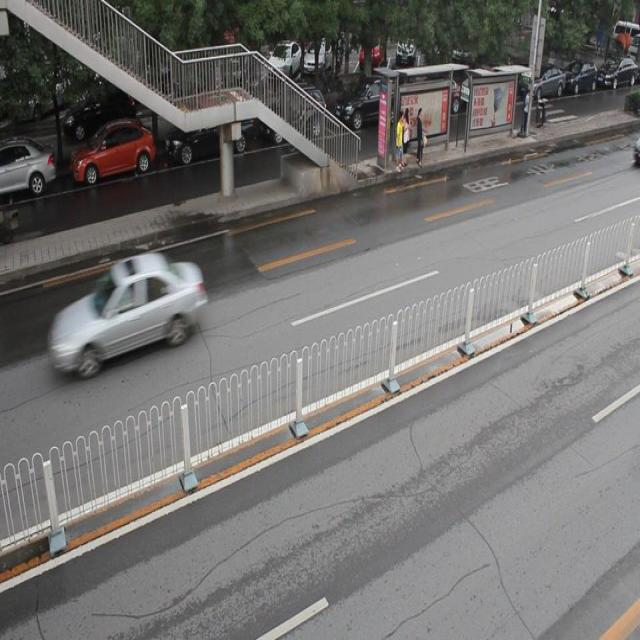car: (47, 256, 208, 376), (164, 101, 253, 161), (70, 122, 156, 183), (334, 75, 404, 132), (263, 88, 326, 146), (1, 136, 56, 198)
